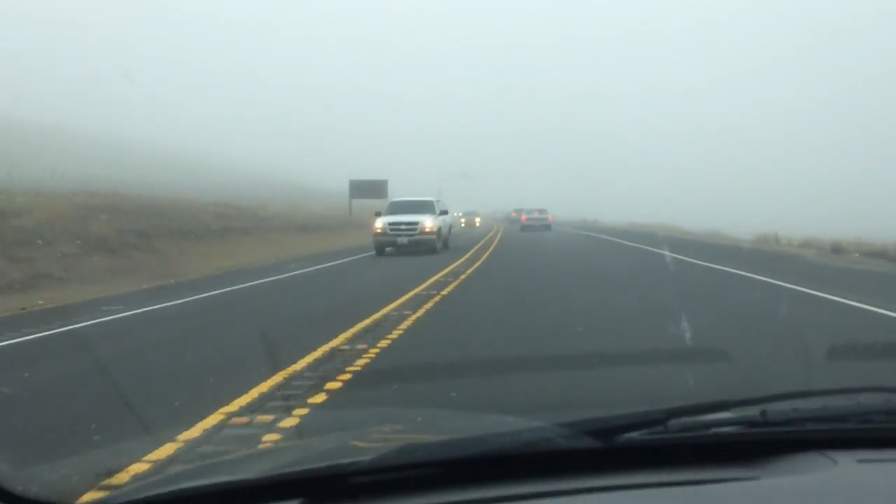car: (371, 196, 453, 256), (520, 206, 553, 231), (459, 210, 481, 229), (509, 206, 532, 224), (452, 210, 467, 221)
